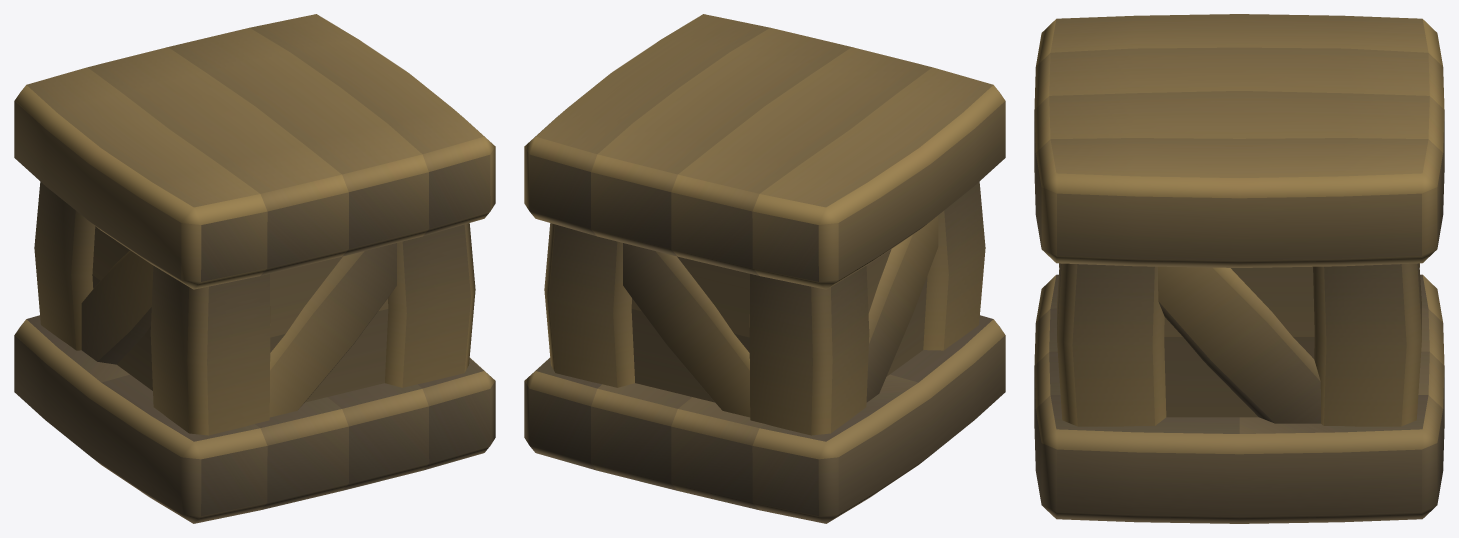
The model's file is box_wooden_1.fbx.
3 renders of one model, left to right at view 1: azimuth 30°, elevation 25°; view 2: azimuth 150°, elevation 25°; view 3: azimuth 270°, elevation 25°, orthographic. The views are drawn at different scales.
Visible parts, largest first — view 1: box_wooden_1; view 2: box_wooden_1; view 3: box_wooden_1.
Boxes of the visible parts, x1=… form: box_wooden_1: x1=14, y1=14, x2=495, y2=523; box_wooden_1: x1=524, y1=14, x2=1005, y2=523; box_wooden_1: x1=1034, y1=14, x2=1444, y2=523.
Size of the model in its own units: 113 by 104 by 110.
